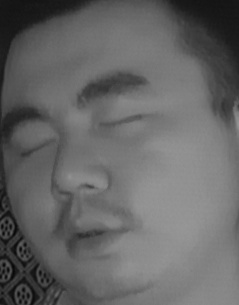blink: (92, 102, 146, 140), (13, 127, 57, 162)
mouth: (51, 208, 132, 261)
